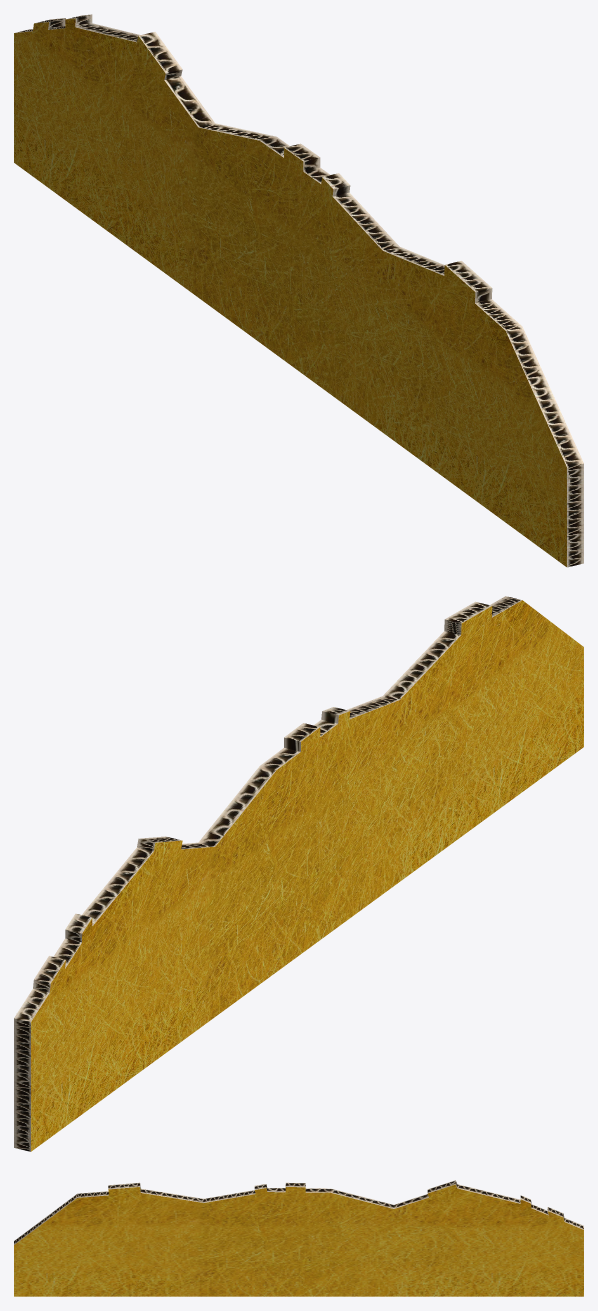
File: BackGroundMesh.FBX
3 views of the same model, one above another, from view 1: azimuth 30°, elevation 25°; view 2: azimuth 150°, elevation 25°; view 3: azimuth 270°, elevation 25° (orthographic). The views are drawn at different scales.
Parts seen in each view (by area): view 1: LanTile; view 2: LanTile; view 3: LanTile.
Boxes of the visible parts, box(x1,y1,x2,y2) form: LanTile: box(14, 14, 583, 567); LanTile: box(14, 596, 583, 1151); LanTile: box(14, 1180, 583, 1296).
Size of the model in its own units: 6.64 by 81.88 by 376.
